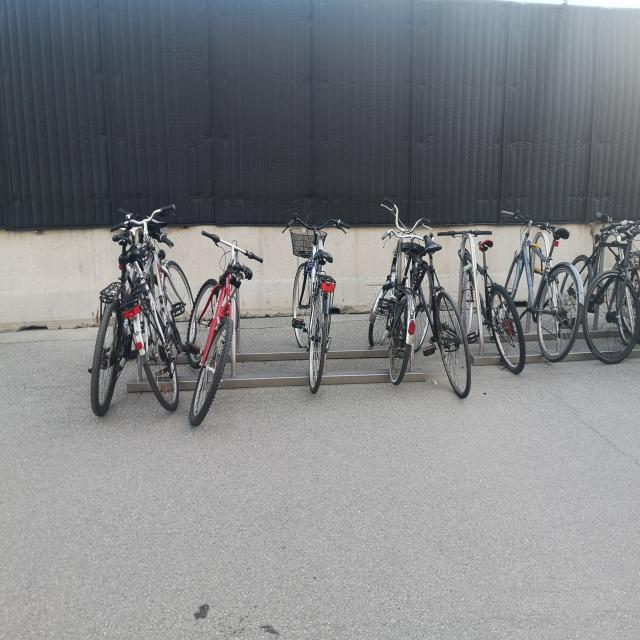Bicycle: (493, 148, 585, 376), (432, 188, 522, 387), (273, 199, 350, 418), (193, 203, 255, 443), (570, 173, 640, 373), (405, 216, 471, 416), (130, 216, 188, 426), (369, 193, 419, 405), (90, 191, 130, 428)
